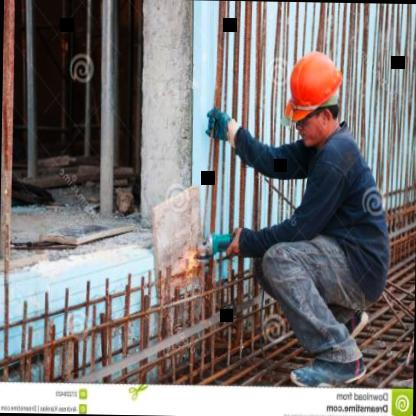helmet: (277, 40, 349, 154)
